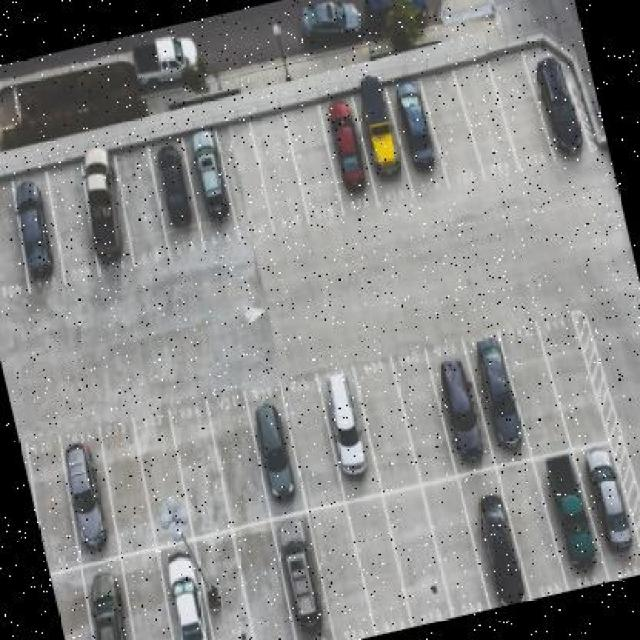Car: (53, 432, 121, 567), (351, 74, 417, 211), (521, 35, 590, 155), (469, 483, 533, 609), (323, 78, 380, 218), (544, 444, 607, 563), (389, 66, 447, 193), (152, 539, 223, 640), (78, 135, 130, 270), (432, 358, 492, 473), (472, 327, 526, 452), (321, 358, 375, 482), (150, 135, 204, 249), (586, 446, 640, 557), (181, 127, 235, 232), (79, 568, 144, 640), (18, 182, 66, 278), (277, 524, 320, 626), (258, 406, 298, 497)
Empty: (506, 455, 557, 584), (238, 536, 296, 640), (463, 63, 514, 180), (550, 324, 601, 440), (313, 515, 366, 626), (430, 486, 481, 600), (495, 55, 547, 162), (221, 136, 273, 238), (364, 379, 416, 481), (52, 172, 103, 275), (289, 118, 340, 221), (355, 510, 407, 610), (430, 83, 481, 184), (394, 500, 440, 611), (515, 343, 564, 443), (398, 380, 449, 474), (258, 133, 307, 227), (32, 455, 78, 553), (121, 558, 175, 640), (107, 438, 152, 536), (181, 426, 226, 518), (203, 552, 250, 640), (215, 412, 258, 507), (141, 421, 184, 515), (292, 398, 336, 487), (120, 164, 164, 243), (55, 588, 95, 640), (1, 201, 23, 286)
